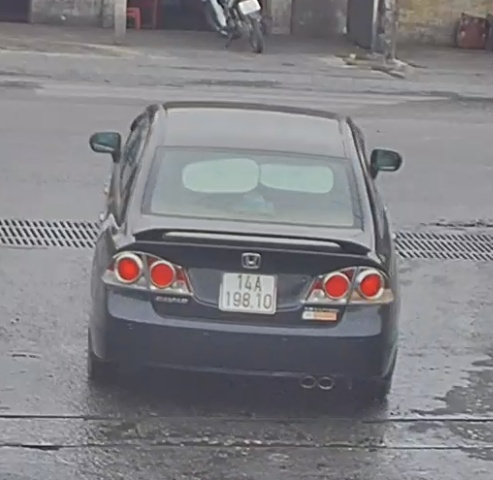vehicle plate: (216, 268, 280, 316)
